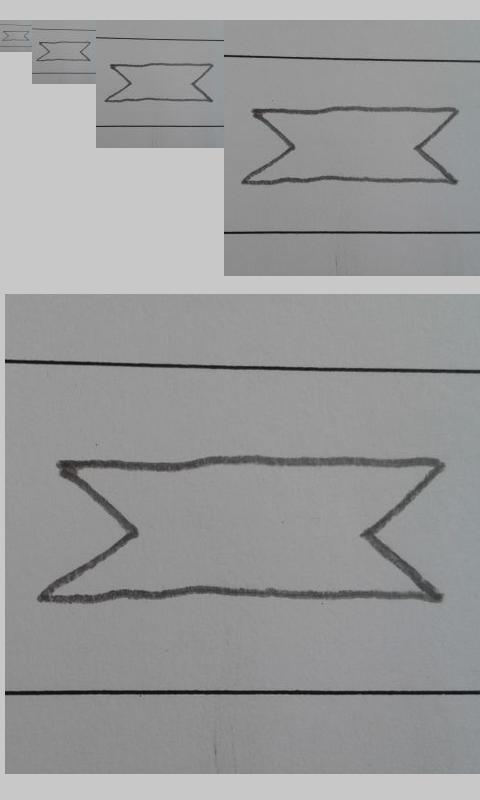edit_text: (39, 451, 442, 607), (242, 105, 457, 185), (104, 62, 215, 103), (36, 41, 91, 62), (2, 30, 29, 42)
